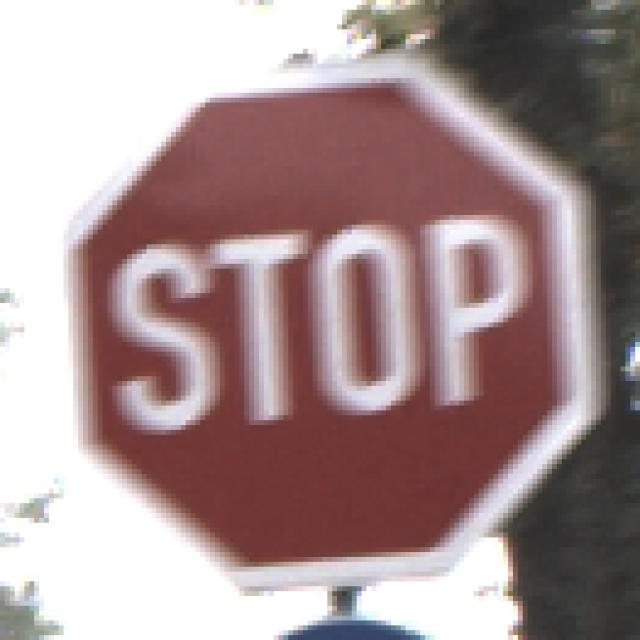STOP: (55, 60, 587, 587)
